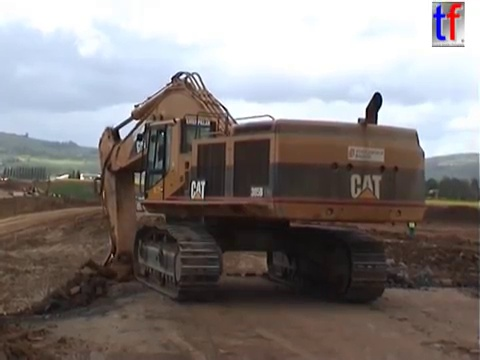excavator: (81, 68, 431, 307), (18, 179, 49, 200)
worker: (405, 211, 419, 238)
